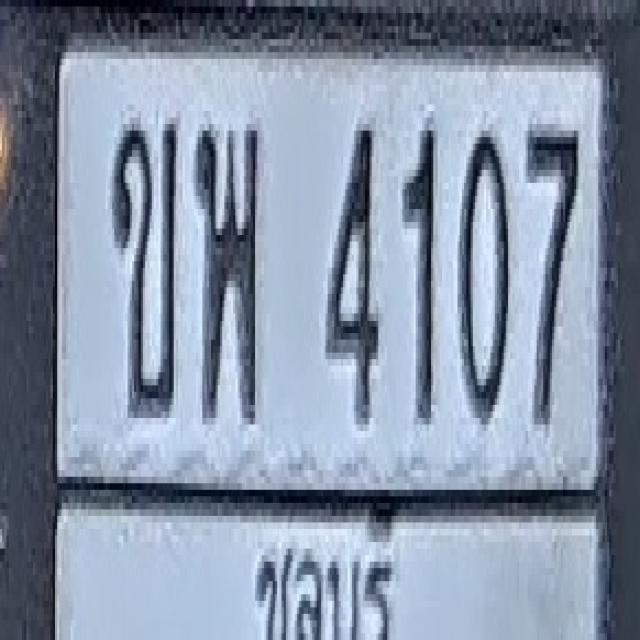0: (459, 128, 509, 422)
1: (404, 121, 434, 421)
4: (326, 121, 378, 421)
7: (526, 121, 578, 421)
A02: (111, 114, 177, 415)
A30: (194, 121, 258, 421)
CBI: (249, 498, 401, 640)
